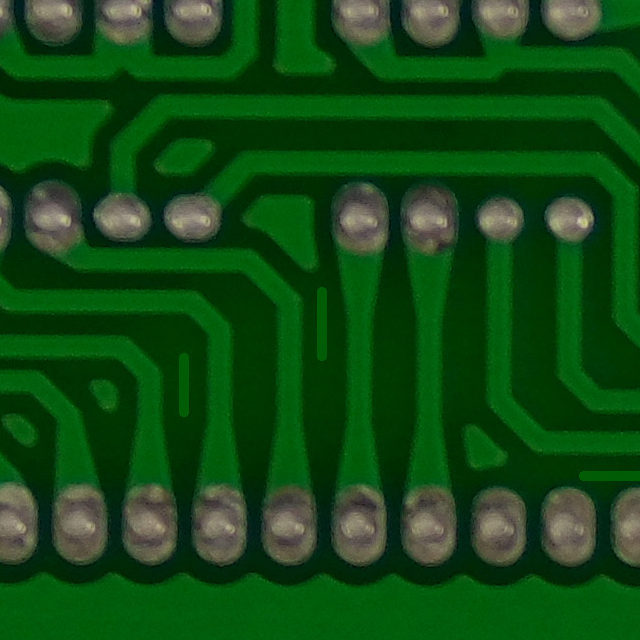spurious_copper: (156, 330, 218, 435), (296, 270, 344, 371), (561, 452, 640, 497)
